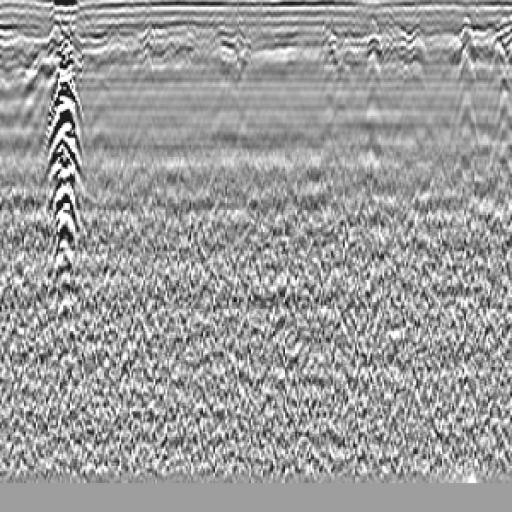metalic: (26, 29, 105, 324)
non-metallic: (354, 21, 405, 80)
